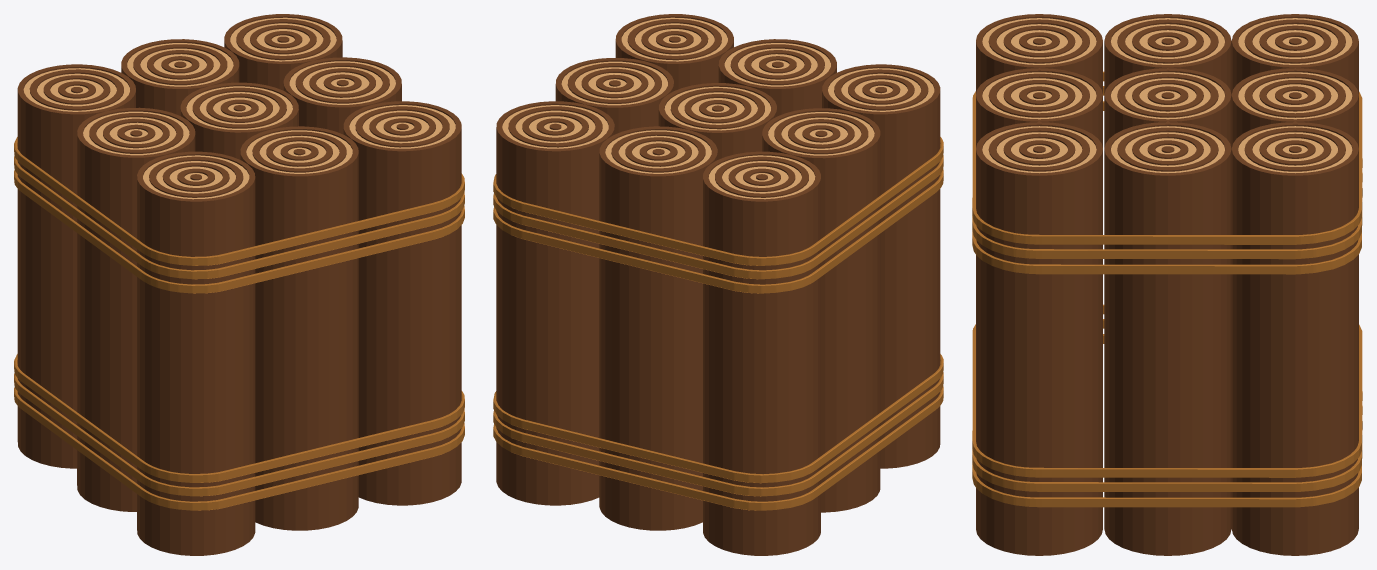
The model's file is Stake.fbx.
3 renders of one model, left to right at view 1: azimuth 30°, elevation 25°; view 2: azimuth 150°, elevation 25°; view 3: azimuth 270°, elevation 25°, orthographic. The views are drawn at different scales.
Visible parts, largest first — view 1: Stake1, Stake4, Stake7, Stake2, Stake3, Stake5, Stake8, Stake6, Stake9, Rope1, Rope4, Rope6 (+3 smaller); view 2: Stake3, Stake6, Stake9, Stake1, Stake2, Stake4, Stake7, Stake5, Stake8, Rope1, Rope4, Rope6 (+3 smaller); view 3: Stake8, Stake9, Stake7, Stake2, Stake3, Stake5, Stake6, Stake1, Stake4, Rope4, Rope1, Rope6 (+3 smaller).
Boxes of the visible parts, x1,y1,x2,y2 form: Stake1: [137, 151, 255, 555]; Stake4: [240, 126, 358, 530]; Stake7: [343, 101, 461, 505]; Stake2: [77, 107, 195, 511]; Stake3: [17, 64, 135, 468]; Stake5: [180, 82, 298, 159]; Stake8: [283, 57, 401, 134]; Stake6: [121, 39, 239, 115]; Stake9: [224, 14, 342, 90]; Rope1: [14, 137, 464, 265]; Rope4: [14, 354, 464, 482]; Rope6: [14, 387, 464, 510]; Stake3: [703, 151, 820, 555]; Stake6: [599, 126, 717, 530]; Stake9: [496, 101, 614, 505]; Stake1: [822, 64, 940, 468]; Stake2: [762, 108, 880, 512]; Stake4: [718, 39, 836, 116]; Stake7: [615, 14, 733, 90]; Stake5: [658, 83, 776, 159]; Stake8: [555, 58, 673, 134]; Rope1: [493, 137, 943, 265]; Rope4: [493, 354, 943, 483]; Rope6: [493, 386, 943, 510]; Stake8: [1104, 122, 1231, 555]; Stake9: [1231, 122, 1358, 555]; Stake7: [976, 122, 1102, 555]; Stake2: [1104, 14, 1231, 94]; Stake3: [1231, 14, 1358, 94]; Stake5: [1104, 68, 1231, 148]; Stake6: [1231, 68, 1358, 148]; Stake1: [976, 14, 1102, 93]; Stake4: [976, 68, 1102, 147]; Rope4: [972, 304, 1362, 477]; Rope1: [972, 71, 1362, 244]; Rope6: [972, 334, 1362, 507].
Size of the model in its own units: 982 by 1055 by 981.
